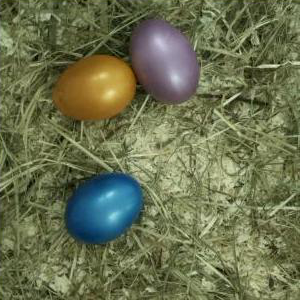egg: (129, 20, 201, 104), (65, 172, 144, 243), (53, 55, 136, 121)
